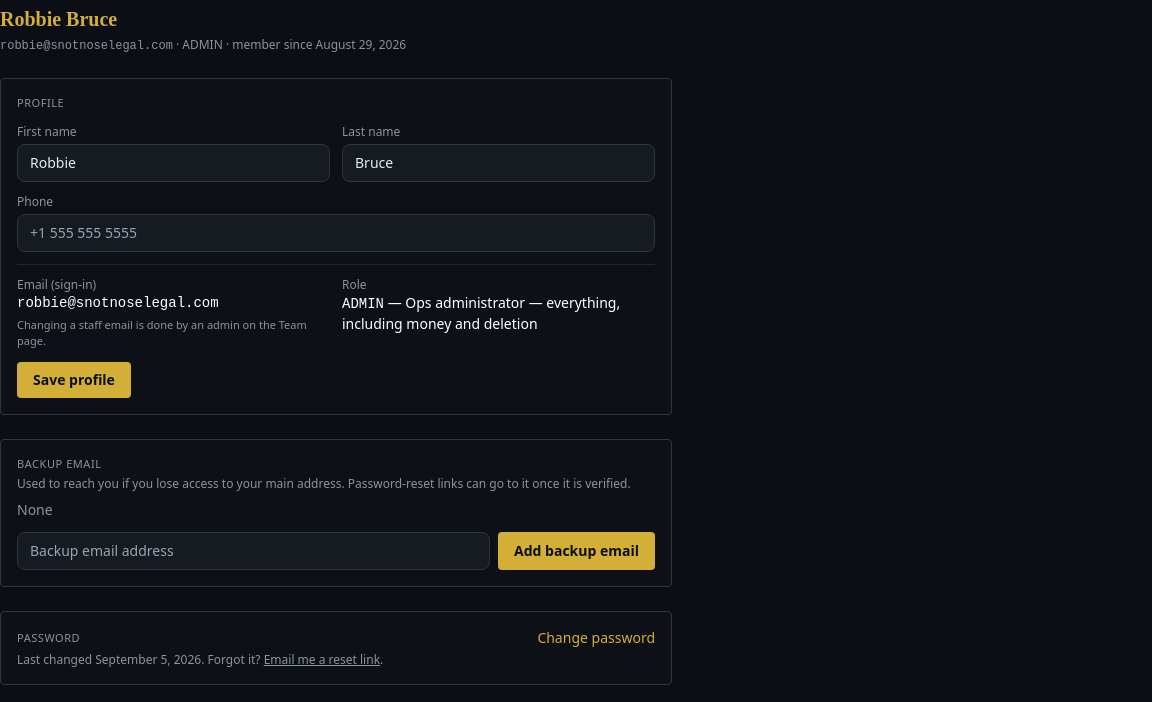
Test case: ops profile page › password change: mismatch is caught on the page; a match calls the action and refreshes the JWT
Later steps or results of the test are not shown.
Expected: the heading "Robbie Bruce" is shown, top-left (0, 8), bottom-right (117, 30)
Click the button with test id "password-change" at (596,638), box top-left (537, 628), bottom-right (655, 648)
(page scrolled)
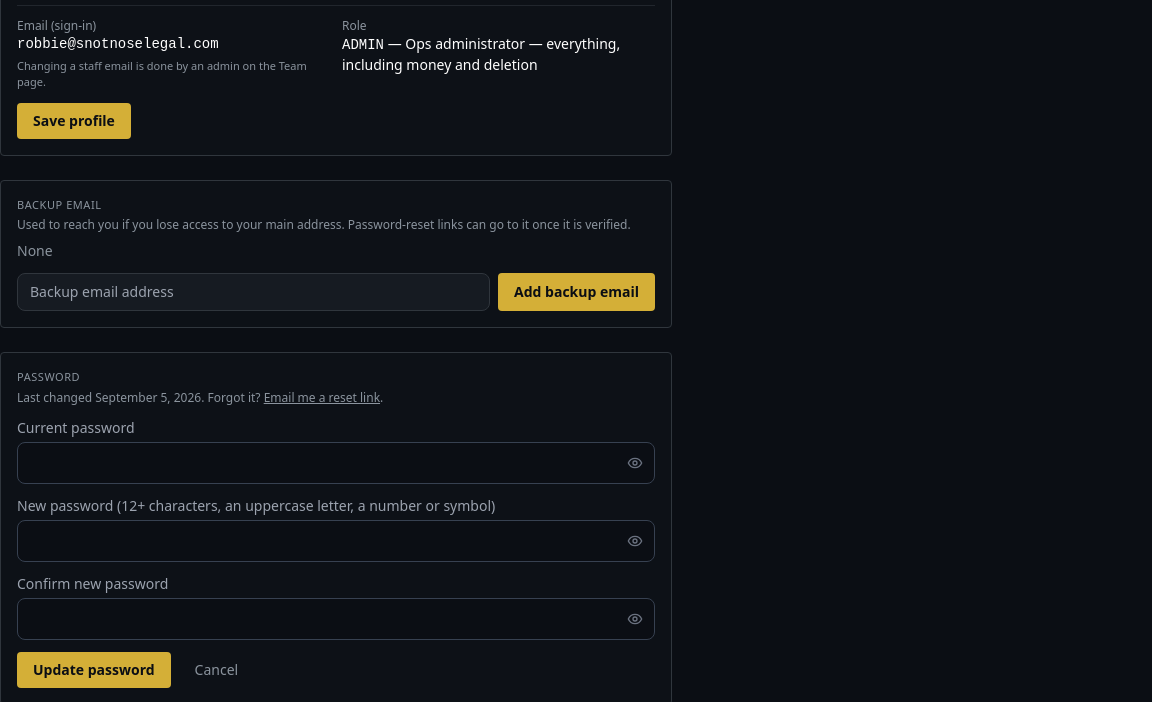
Type "OldPassword123!" into the password field labelled "Current password" at (336,462), box top-left (17, 442), bottom-right (655, 484)
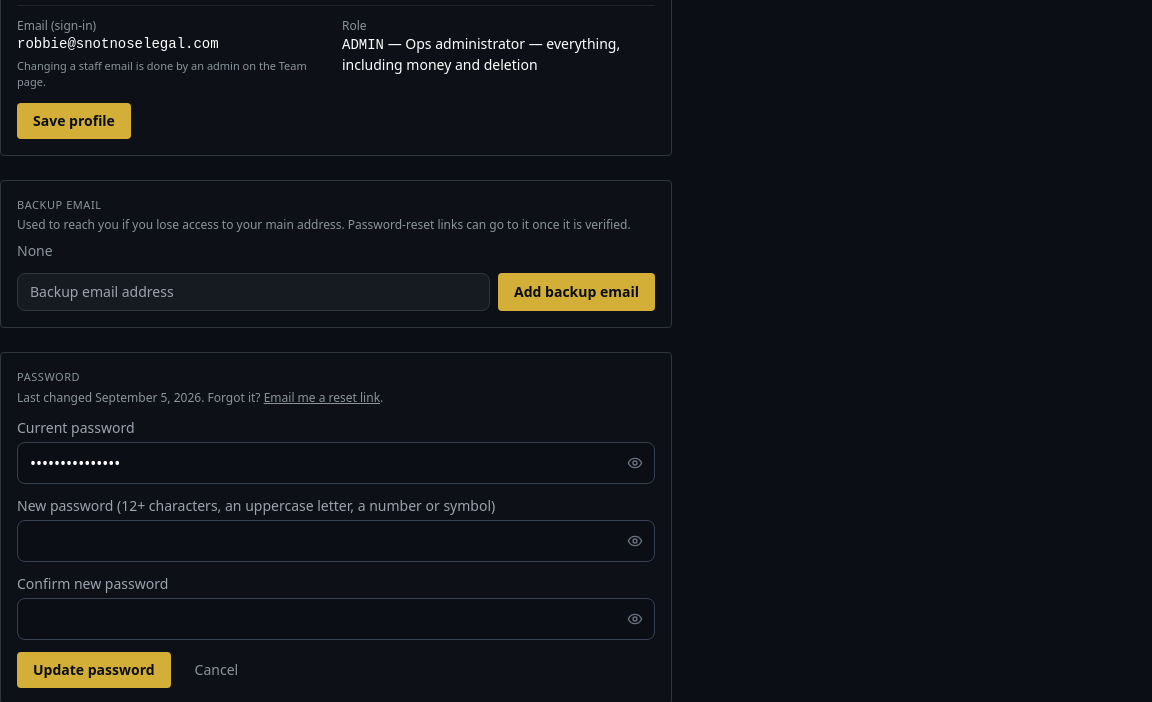
Type "NewPassword123!" into the password field labelled "New password" at (336,540), box top-left (17, 520), bottom-right (655, 562)
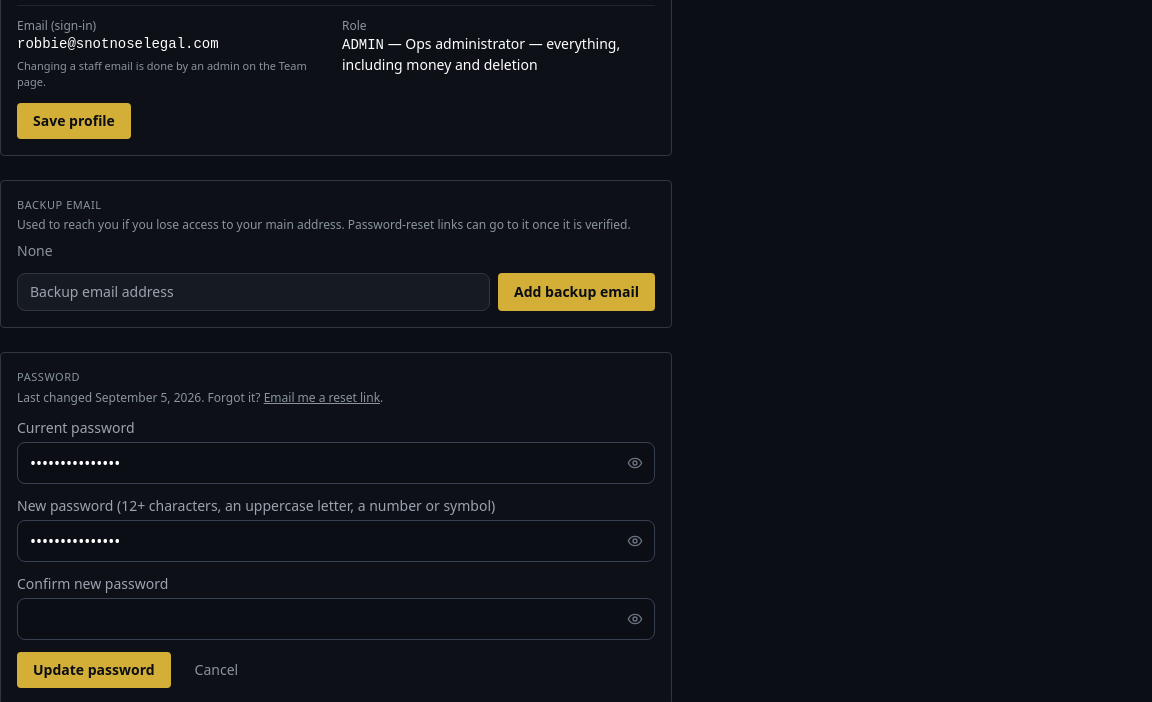
Type "different" into the password field labelled "Confirm new password" at (336,618), box top-left (17, 598), bottom-right (655, 640)
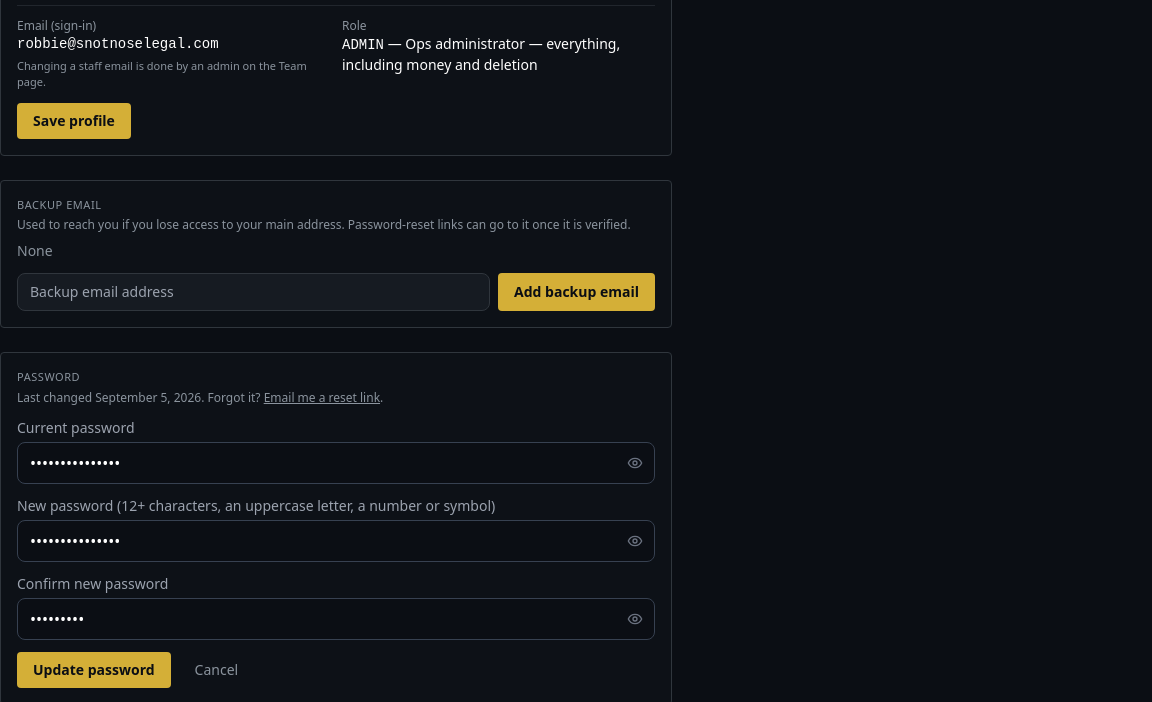
Click the button with test id "password-save" at (94,670), box top-left (17, 652), bottom-right (171, 688)
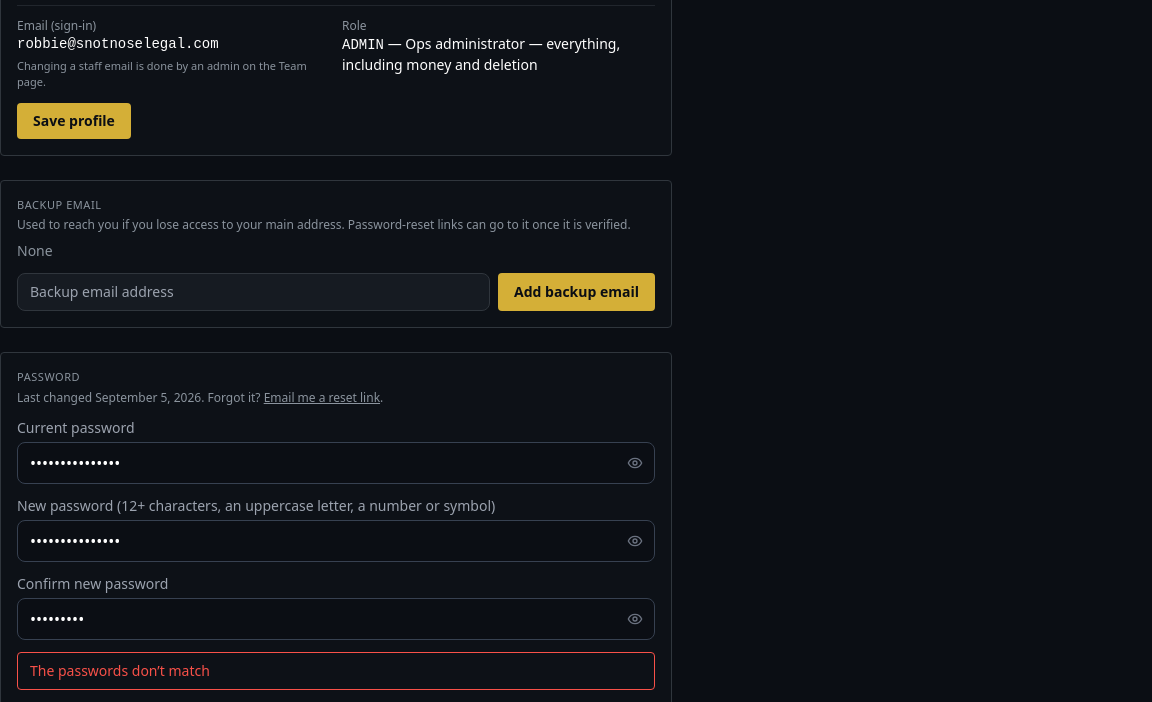
Expected: the message shows "don’t match", top-left (30, 660), bottom-right (210, 680)
